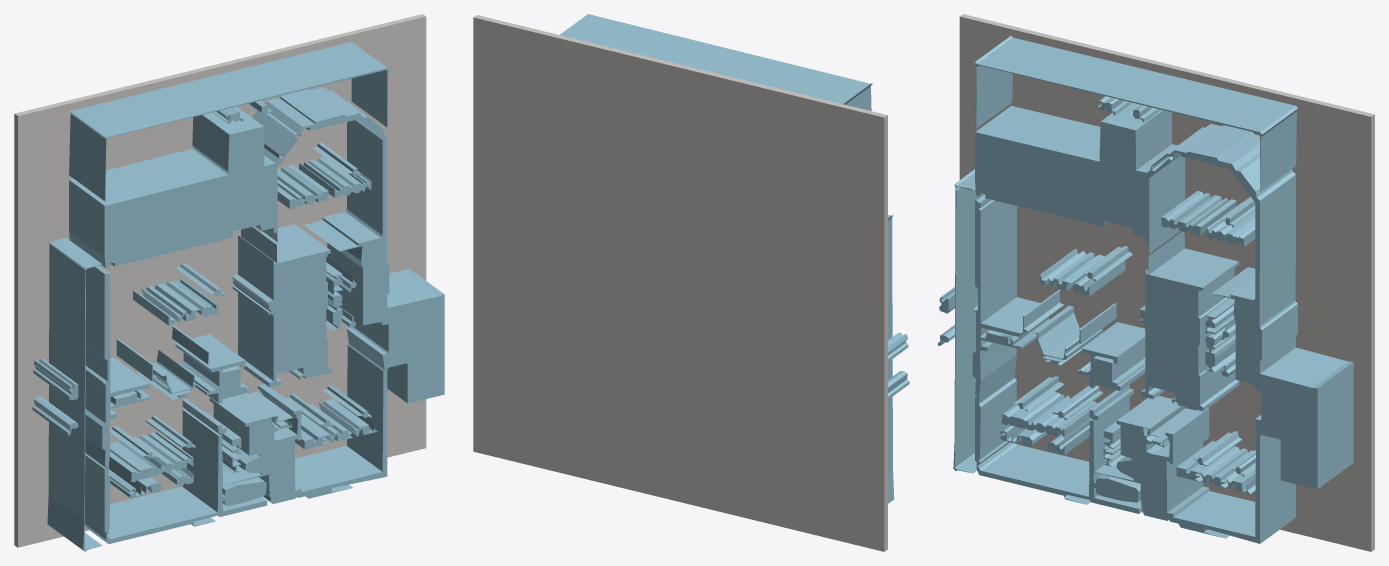
The picture shows the model from 3 angles, left to right: view 1: azimuth 30°, elevation 25°; view 2: azimuth 150°, elevation 25°; view 3: azimuth 330°, elevation 25°; orthographic projection.
Parts seen in each view (by area): view 1: world; view 2: world; view 3: world.
Boxes of the visible parts, x1=… form: world: x1=14, y1=14, x2=444, y2=551; world: x1=473, y1=14, x2=909, y2=551; world: x1=938, y1=14, x2=1374, y2=551.
Size of the model in its own units: 10.23 by 10.33 by 1.7.
